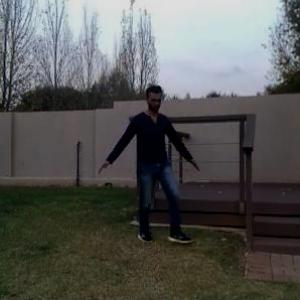land: (99, 87, 199, 260)
